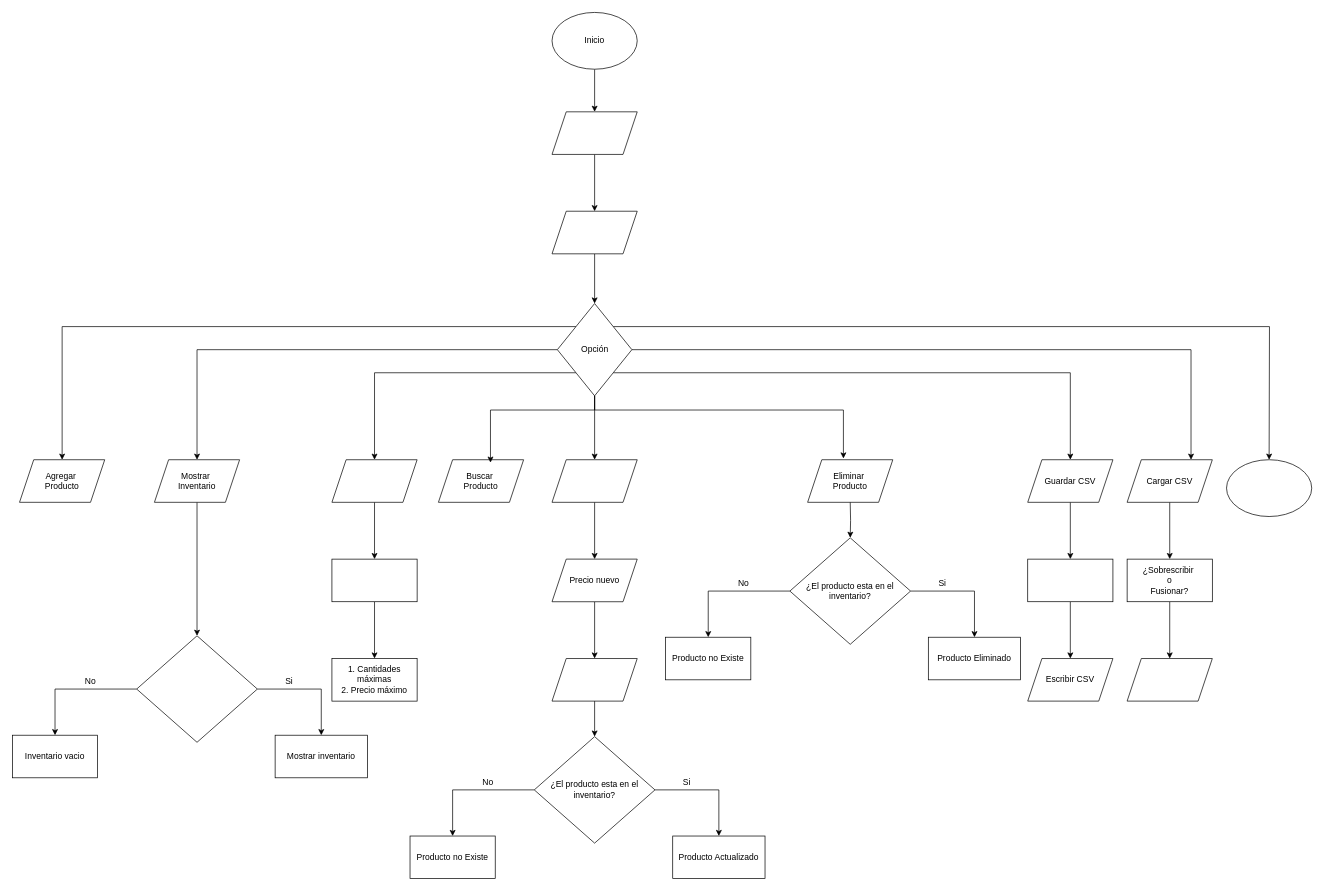
The diagram is 1324 pixels wide and 891 high, and some of its shapes have lost their labels. The centre of each missing label's shape, as x and y in pixels:
"1. Total Inventario 2. Cantidad total" belongs at point 374,580.
"Actualizar Inventario" belongs at point 1169,679.
"Actualizar Producto" belongs at point 594,480.
"Calcular Estadistica" belongs at point 374,480.
"Cantidad nueva" belongs at point 594,679.
"Cargar Ruta" belongs at point 594,132.
"Escribir Nombre" belongs at point 594,232.
"Salir" belongs at point 1269,488.
"Validar datos" belongs at point 1070,580.
"¿Hay productos en inventario?" belongs at point 196,688.
